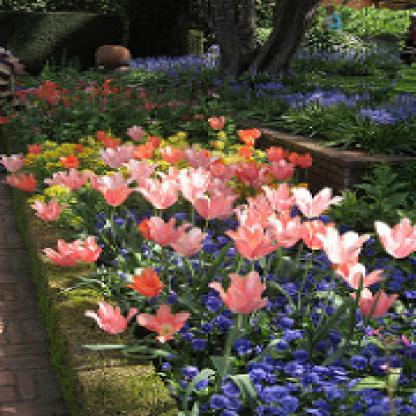TULIP: (8, 116, 408, 403)
